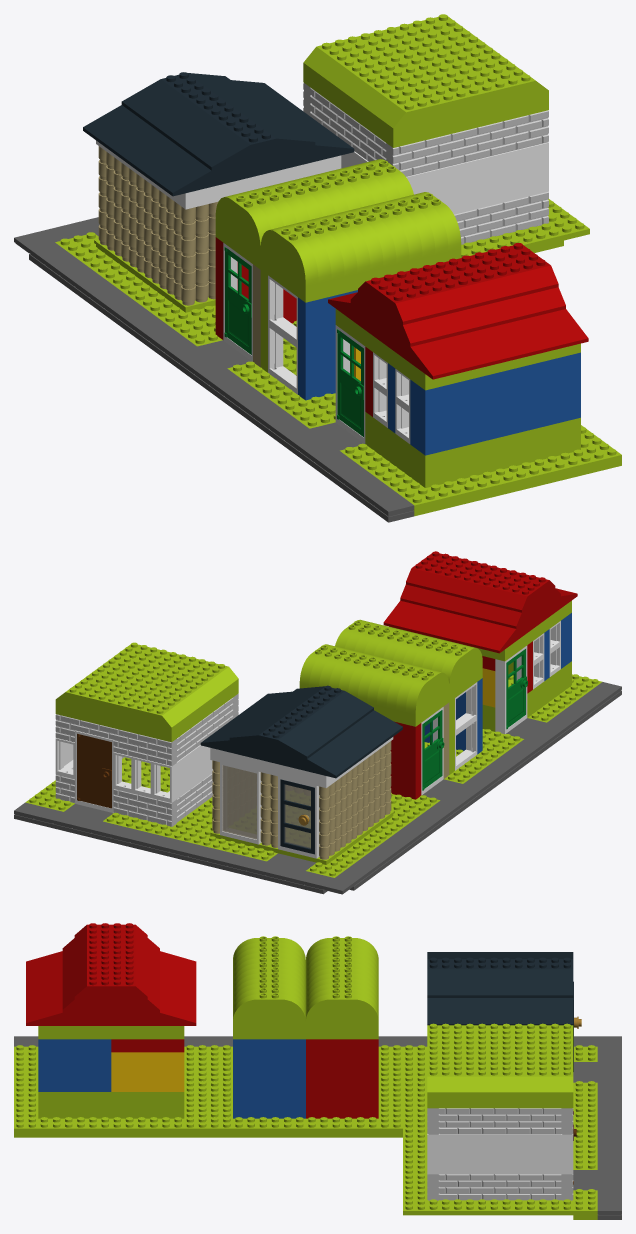
The model's file is Block5-lod0.fbx.
3 views of the same model, one above another, from view 1: azimuth 30°, elevation 25°; view 2: azimuth 150°, elevation 25°; view 3: azimuth 270°, elevation 25° (orthographic). The views are drawn at different scales.
Parts seen in each view (by area): view 1: Material_119, Material_21, Material_26, Material_199, Material_23, Material_1, Material_5, Material_208, Material_28; view 2: Material_119, Material_199, Material_21, Material_26, Material_1, Material_5, Material_208, Material_111, Material_28, Material_192, Material_23, Material_24; view 3: Material_119, Material_21, Material_26, Material_23, Material_208, Material_199, Material_1, Material_24.
Boxes of the visible parts, box(x1,y1,x2,y2) form: Material_119: box(55, 14, 621, 516); Material_21: box(215, 237, 588, 416); Material_26: box(83, 72, 354, 196); Material_199: box(14, 217, 414, 522); Material_23: box(298, 290, 580, 455); Material_1: box(96, 140, 548, 443); Material_5: box(98, 146, 260, 367); Material_208: box(303, 83, 548, 244); Material_28: box(224, 247, 363, 436); Material_119: box(25, 600, 602, 877); Material_199: box(14, 682, 621, 894); Material_21: box(383, 551, 577, 799); Material_26: box(200, 685, 402, 854); Material_1: box(55, 621, 560, 858); Material_5: box(212, 702, 449, 859); Material_208: box(55, 694, 238, 826); Material_111: box(222, 765, 310, 848); Material_28: box(422, 649, 527, 790); Material_192: box(77, 733, 111, 808); Material_23: box(424, 613, 571, 754); Material_24: box(482, 668, 495, 707); Material_119: box(14, 936, 597, 1219); Material_21: box(26, 923, 378, 1118); Material_26: box(427, 952, 573, 1071); Material_23: box(38, 1039, 305, 1118); Material_208: box(427, 1108, 573, 1200); Material_199: box(14, 1036, 621, 1219); Material_1: box(427, 1134, 573, 1174); Material_24: box(111, 1052, 184, 1091).
Size of the model in its own units: 27.2 by 10.42 by 40.
